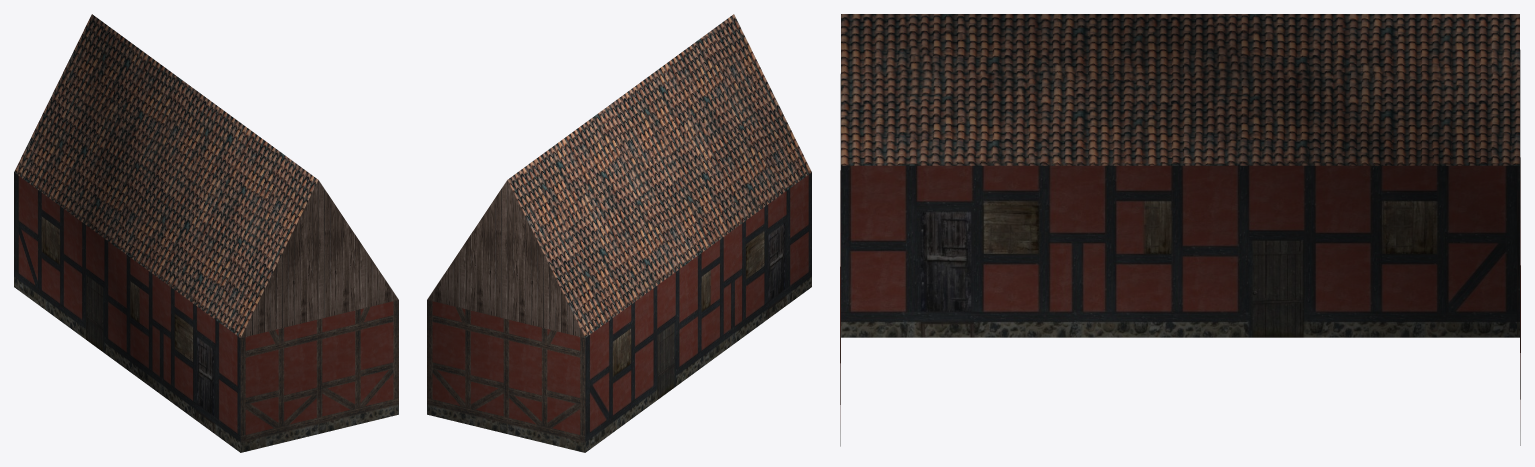
Rendered from kuliss_1.FBX.
3 views of the same model, side by side, from view 1: azimuth 30°, elevation 25°; view 2: azimuth 150°, elevation 25°; view 3: azimuth 270°, elevation 25° (orthographic). The views are drawn at different scales.
Visible parts, largest first — view 1: Plane001; view 2: Plane001; view 3: Plane001.
Boxes of the visible parts, x1,y1,x2,y2 form: Plane001: (14, 14, 398, 452); Plane001: (427, 14, 811, 452); Plane001: (840, 14, 1520, 446).
Size of the model in its own units: 29.43 by 45.24 by 73.36.
4 materials, 4 textured.
